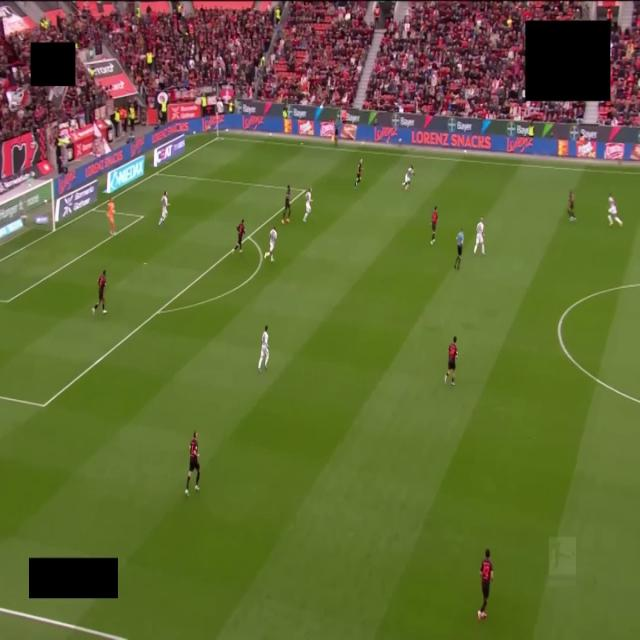ball: (464, 149, 466, 153)
player: (478, 548, 493, 620), (185, 432, 200, 495), (445, 336, 457, 385), (93, 270, 106, 313), (608, 193, 622, 226), (264, 227, 277, 262), (259, 326, 268, 372), (234, 219, 245, 253), (474, 218, 484, 255), (303, 188, 313, 222), (107, 199, 116, 235), (159, 191, 168, 226), (282, 185, 290, 223), (431, 207, 438, 245), (402, 166, 413, 190), (568, 192, 575, 221), (355, 160, 362, 187)
referee: (455, 229, 463, 269)
